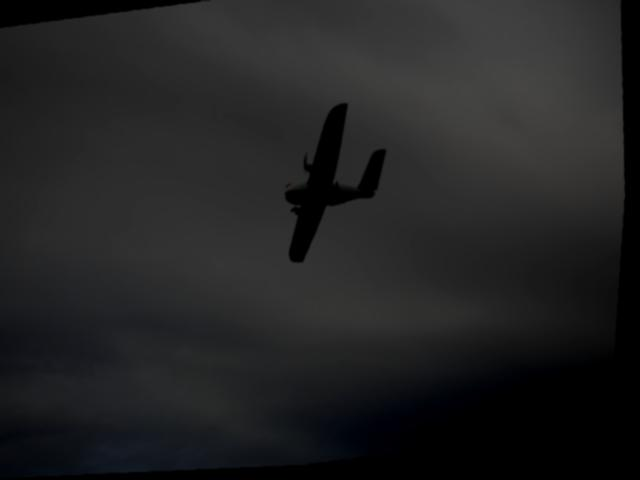plane: (274, 102, 399, 271)
